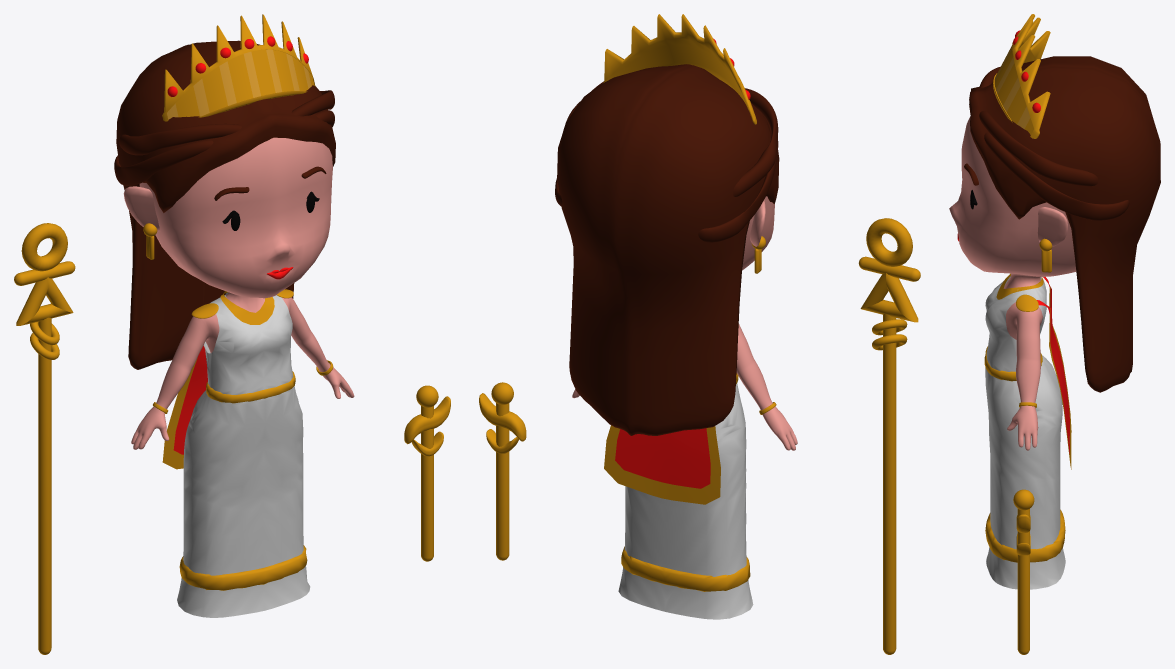
Rendered from Alisa.fbx.
3 renders of one model, left to right at view 1: azimuth 30°, elevation 25°; view 2: azimuth 150°, elevation 25°; view 3: azimuth 270°, elevation 25°, orthographic. The views are drawn at different scales.
Visible parts, largest first — view 1: dress, body, hair, staff, crown, small staff, cap; view 2: hair, dress, staff, cap, crown, small staff, body; view 3: hair, dress, body, crown, small staff, cap, earring.
Boxes of the visible parts, <box> form: dress: <box>177,291,310,617</box>; body: <box>123,137,354,449</box>; hair: <box>114,40,335,369</box>; staff: <box>14,223,75,654</box>; crown: <box>162,14,315,121</box>; small staff: <box>404,385,450,561</box>; cap: <box>162,289,293,469</box>; hair: <box>555,64,779,435</box>; dress: <box>618,373,753,619</box>; staff: <box>858,218,920,654</box>; cap: <box>604,425,720,504</box>; crown: <box>603,14,756,124</box>; small staff: <box>479,382,526,560</box>; body: <box>572,196,797,450</box>; hair: <box>969,56,1160,392</box>; dress: <box>984,273,1065,589</box>; body: <box>949,116,1076,450</box>; crown: <box>993,14,1050,138</box>; small staff: <box>1013,489,1034,654</box>; cap: <box>1016,277,1071,469</box>; earring: <box>1039,238,1052,272</box>.
Size of the model in its own units: 186 by 241 by 83.73.
